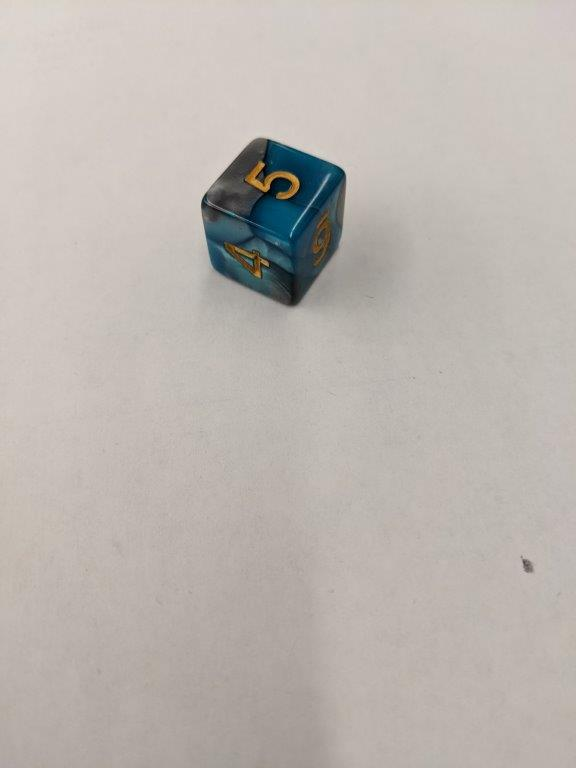d6-5: (203, 135, 347, 304)
